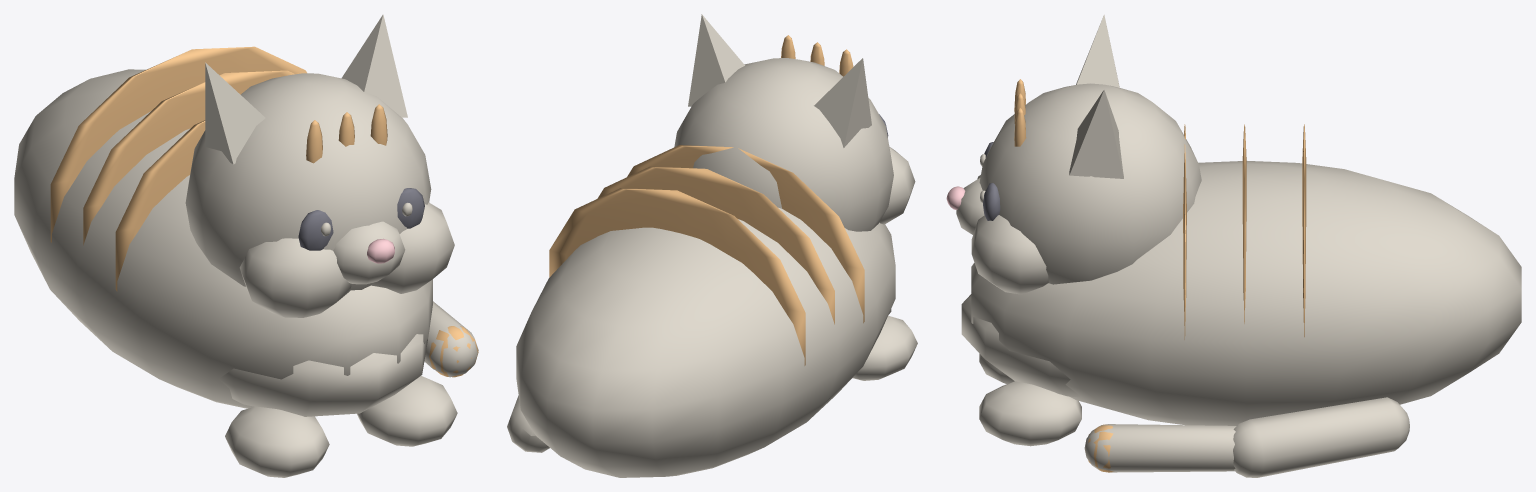
The model's file is companion-animals-and-pet-home-cat-loaf-calico-55b7eb90__20547.glb.
3 renders of one model, left to right at view 1: azimuth 30°, elevation 25°; view 2: azimuth 150°, elevation 25°; view 3: azimuth 270°, elevation 25°, orthographic. The views are drawn at different scales.
Visible parts, largest first — view 1: cat-loaf-calico; view 2: cat-loaf-calico; view 3: cat-loaf-calico.
Boxes of the visible parts, box(x1,y1,x2,y2) form: cat-loaf-calico: box(14, 14, 478, 477); cat-loaf-calico: box(507, 14, 917, 477); cat-loaf-calico: box(946, 14, 1521, 477).
Bounding box in the file's own units: 0.2739 × 0.3065 × 0.4451.
